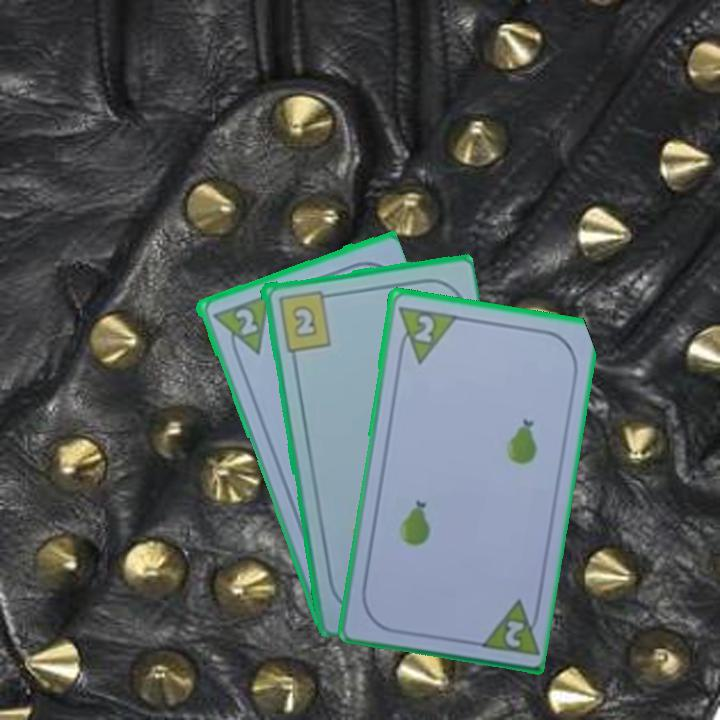2b: (274, 286, 336, 354)
2p: (393, 301, 459, 366), (231, 304, 260, 338), (501, 616, 528, 651)
